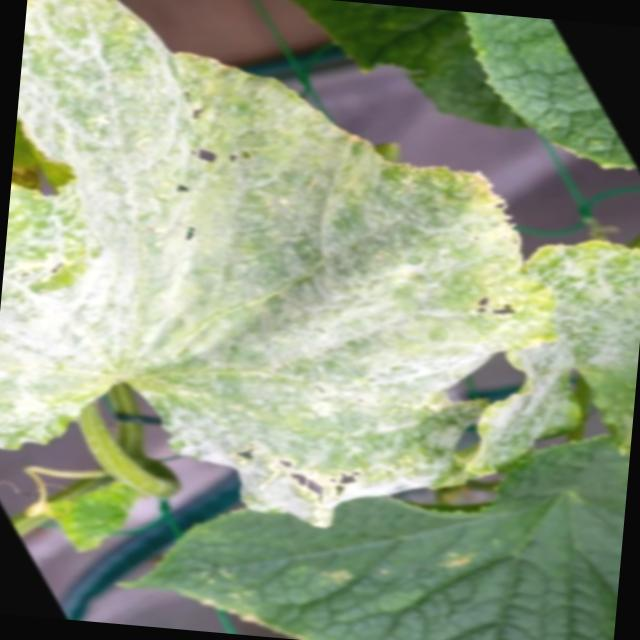Powdery_Mildew: (0, 0, 640, 560)
